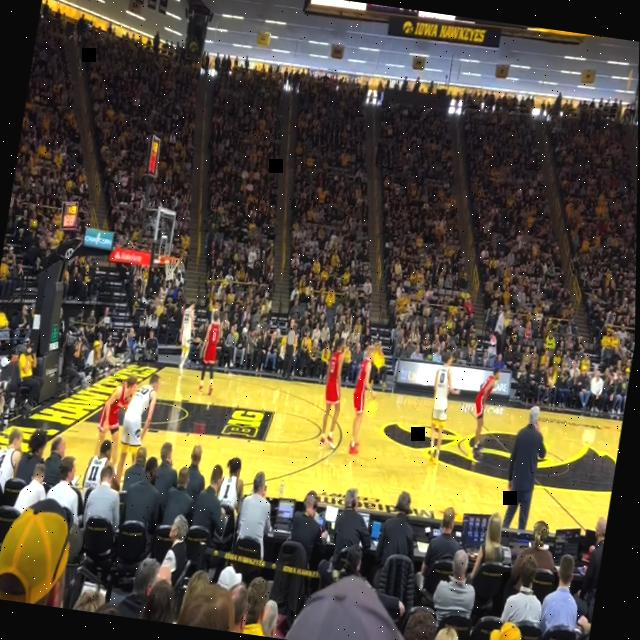basket: (161, 256, 182, 283)
game clock: (68, 205, 78, 215)
head coach: (500, 402, 555, 532)
player-iowa: (114, 370, 163, 492), (423, 348, 468, 468), (175, 298, 202, 378)
player-neb: (92, 370, 141, 482), (317, 336, 354, 451), (346, 345, 384, 456), (469, 364, 504, 458), (195, 309, 227, 396)
referee: (279, 318, 302, 382)
shot clock: (65, 214, 75, 227)
